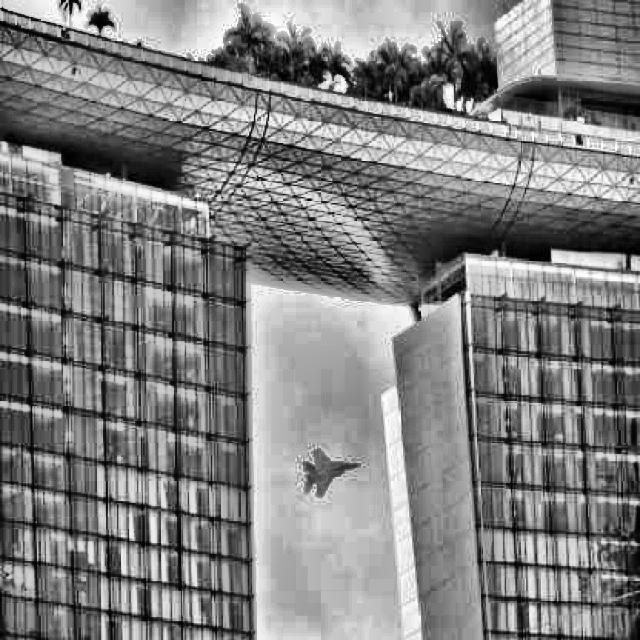F15: (302, 448, 361, 498)
